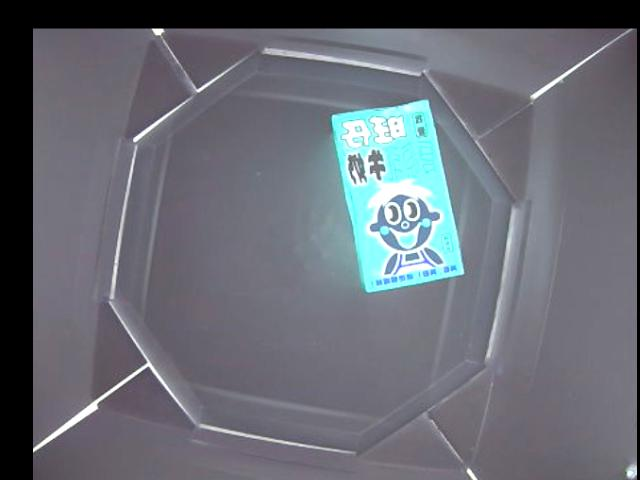Bottle: (330, 98, 466, 288)
